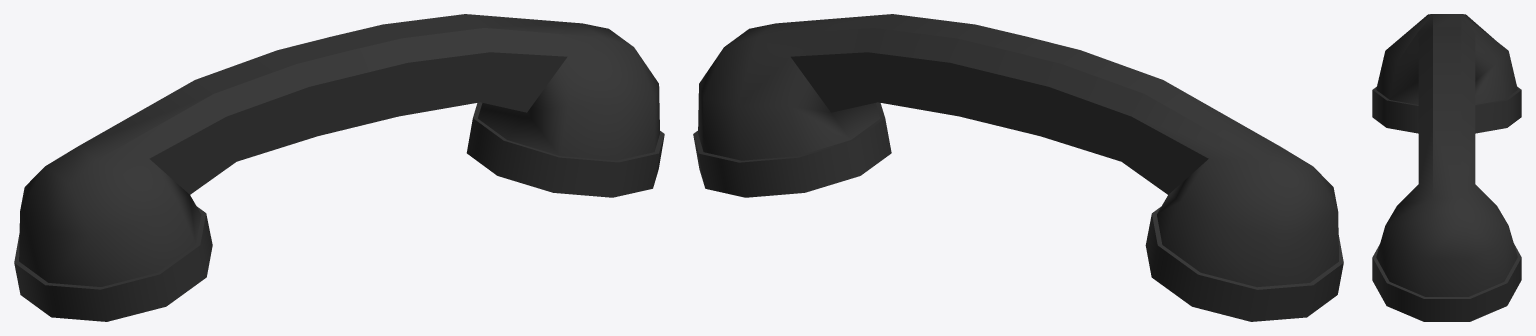
The model's file is mdl_receiver.fbx.
3 renders of one model, left to right at view 1: azimuth 30°, elevation 25°; view 2: azimuth 150°, elevation 25°; view 3: azimuth 270°, elevation 25°, orthographic. The views are drawn at different scales.
Parts seen in each view (by area): view 1: mesh_receiver; view 2: mesh_receiver; view 3: mesh_receiver.
Boxes of the visible parts, x1,y1,x2,y2 form: mesh_receiver: (14,14,664,321); mesh_receiver: (693,14,1343,321); mesh_receiver: (1372,14,1521,321).
Bounding box in the file's own units: 19.98 × 5.8 × 5.57.
